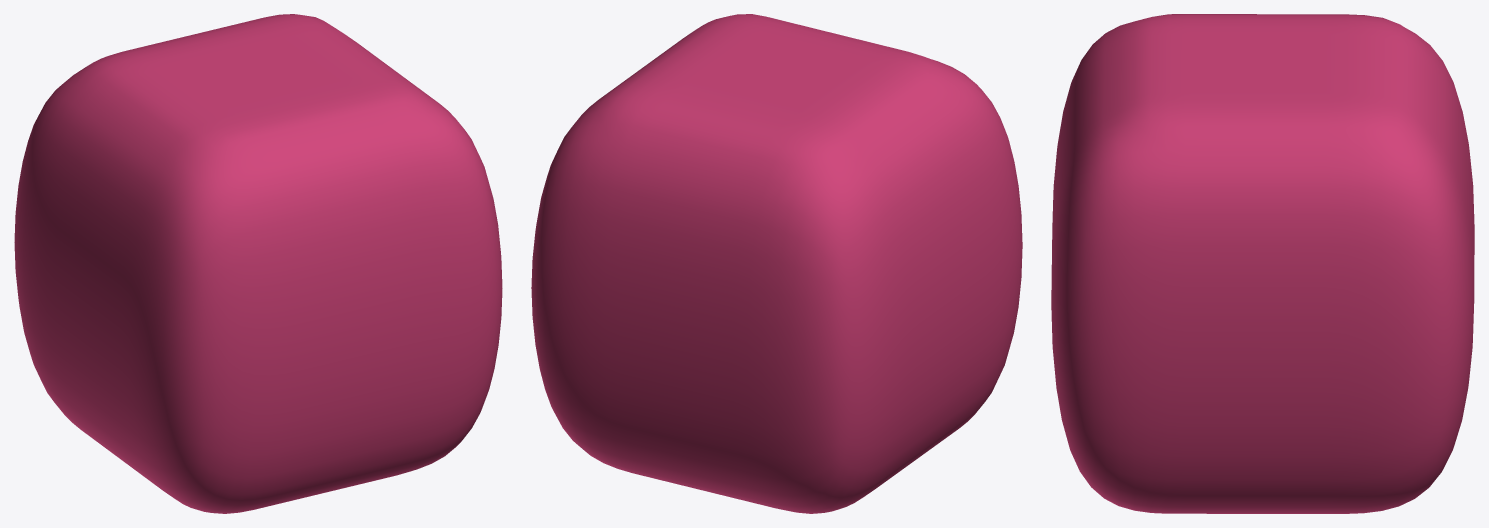
The model's file is pink_body_detach.fbx.
The picture shows the model from 3 angles, left to right: view 1: azimuth 30°, elevation 25°; view 2: azimuth 150°, elevation 25°; view 3: azimuth 270°, elevation 25°; orthographic projection. The views are drawn at different scales.
Visible parts, largest first — view 1: pink_body_detach; view 2: pink_body_detach; view 3: pink_body_detach.
Boxes of the visible parts, x1=… form: pink_body_detach: x1=14, y1=14, x2=502, y2=513; pink_body_detach: x1=531, y1=14, x2=1022, y2=513; pink_body_detach: x1=1051, y1=14, x2=1474, y2=513.
Bounding box in the file's own units: 0.9746 × 1.01 × 0.9751.
Materials: 1 (1 with a texture image).
